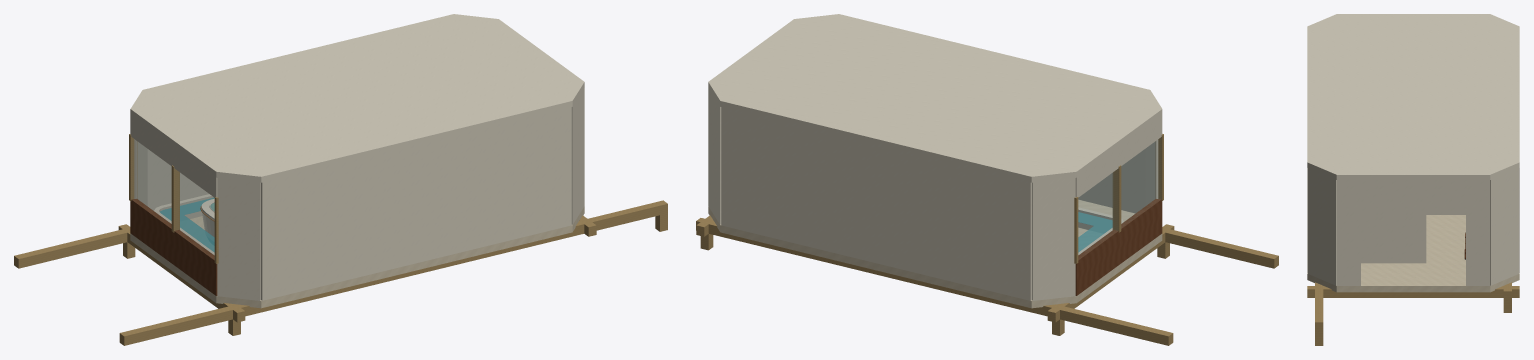
The model's file is D04_STARBOARD_AFT_HOME_927_r001.glb.
3 views of the same model, side by side, from view 1: azimuth 30°, elevation 25°; view 2: azimuth 150°, elevation 25°; view 3: azimuth 270°, elevation 25° (orthographic). The views are drawn at different scales.
Parts seen in each view (by area): view 1: SA927_D04H916_Roof, SA927_D04H916_Shell_7, SA927_D04H916_Shell_6, SA927_D04H916_FloorCross_0, SA927_D04H916_GardenGlass, SA927_D04H916_Floor, SA927_D04H916_GardenDado, SA927_D04H916_GardenHead, SA927_D04H916_Shell_3, SA927_D04H916_FloorCross_1, SA927_D04H916_Shell_0, SA927_D04H916_Water_0 (+4 smaller); view 2: SA927_D04H916_Roof, SA927_D04H916_Shell_3, SA927_D04H916_Shell_4, SA927_D04H916_GardenGlass, SA927_D04H916_Floor, SA927_D04H916_FloorCross_1, SA927_D04H916_GardenDado, SA927_D04H916_Shell_7, SA927_D04H916_GardenHead, SA927_D04H916_FloorCross_0, SA927_D04H916_Shell_2, SA927_D04H916_Shell_6 (+4 smaller); view 3: SA927_D04H916_Roof, SA927_D04H916_Floor, SA927_D04H916_EntryHeader, SA927_D04H916_BathDogleg, SA927_D04H916_Shell_0, SA927_D04H916_Shell_2, SA927_D04H916_EntryWall_0, SA927_D04H916_EntryWall_1, SA927_D04H916_Long_-41.650000000000006, SA927_D04H916_FloorCross_0, SA927_D04H916_Pier_13.
Boxes of the visible parts, box(x1,y1,x2,y2) form: SA927_D04H916_Roof: box(130, 14, 584, 182); SA927_D04H916_Shell_7: box(261, 107, 571, 300); SA927_D04H916_Shell_6: box(217, 178, 260, 300); SA927_D04H916_FloorCross_0: box(119, 201, 667, 345); SA927_D04H916_GardenGlass: box(135, 141, 214, 255); SA927_D04H916_Floor: box(130, 206, 584, 308); SA927_D04H916_GardenDado: box(130, 199, 217, 295); SA927_D04H916_GardenHead: box(130, 115, 217, 197); SA927_D04H916_Shell_3: box(147, 149, 208, 210); SA927_D04H916_FloorCross_1: box(14, 227, 130, 268); SA927_D04H916_Shell_0: box(571, 89, 584, 224); SA927_D04H916_Water_0: box(160, 197, 214, 252); SA927_D04H916_Roof: box(708, 14, 1162, 182); SA927_D04H916_Shell_3: box(721, 107, 1031, 300); SA927_D04H916_Shell_4: box(1032, 178, 1075, 300); SA927_D04H916_GardenGlass: box(1078, 141, 1155, 257); SA927_D04H916_Floor: box(708, 199, 1162, 308); SA927_D04H916_FloorCross_1: box(696, 218, 1173, 345); SA927_D04H916_GardenDado: box(1075, 199, 1162, 295); SA927_D04H916_Shell_7: box(1078, 149, 1145, 213); SA927_D04H916_GardenHead: box(1075, 115, 1162, 197); SA927_D04H916_FloorCross_0: box(1162, 227, 1278, 268); SA927_D04H916_Shell_2: box(708, 89, 721, 224); SA927_D04H916_Shell_6: box(1145, 139, 1158, 205); SA927_D04H916_Roof: box(1307, 14, 1519, 180); SA927_D04H916_Floor: box(1307, 215, 1519, 292); SA927_D04H916_EntryHeader: box(1361, 180, 1465, 214); SA927_D04H916_BathDogleg: box(1361, 215, 1426, 263); SA927_D04H916_Shell_0: box(1308, 168, 1336, 285); SA927_D04H916_Shell_2: box(1490, 168, 1518, 285); SA927_D04H916_EntryWall_0: box(1336, 180, 1360, 285); SA927_D04H916_EntryWall_1: box(1466, 180, 1490, 285); SA927_D04H916_Long_-41.650000000000006: box(1307, 286, 1519, 297); SA927_D04H916_FloorCross_0: box(1315, 282, 1323, 330); SA927_D04H916_Pier_13: box(1315, 319, 1323, 345).
Bounding box in the file's own units: 19.04 × 5.24 × 7.2.
40 materials, 21 textured.
